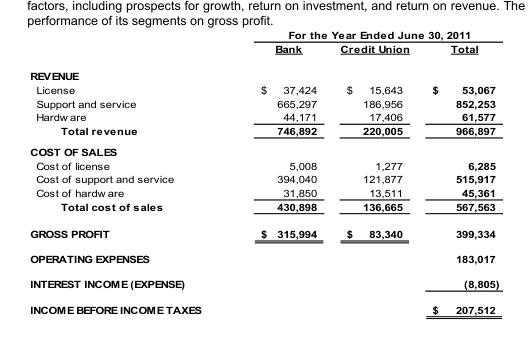table: (29, 29, 498, 314)
table column: (29, 29, 230, 314), (230, 29, 327, 314), (327, 29, 420, 314), (420, 29, 498, 314)
table column header: (29, 29, 498, 62)
table projected row header: (29, 62, 498, 82), (29, 140, 498, 158)
table row: (29, 219, 498, 246), (29, 246, 498, 271), (29, 271, 498, 296), (29, 41, 498, 62), (29, 62, 498, 82), (29, 199, 498, 219), (29, 140, 498, 158), (29, 296, 498, 314), (29, 123, 498, 140), (29, 82, 498, 96), (29, 109, 498, 123), (29, 171, 498, 185), (29, 185, 498, 199), (29, 96, 498, 109), (29, 158, 498, 171), (29, 29, 498, 41)
table spanning cell: (230, 29, 498, 41)
